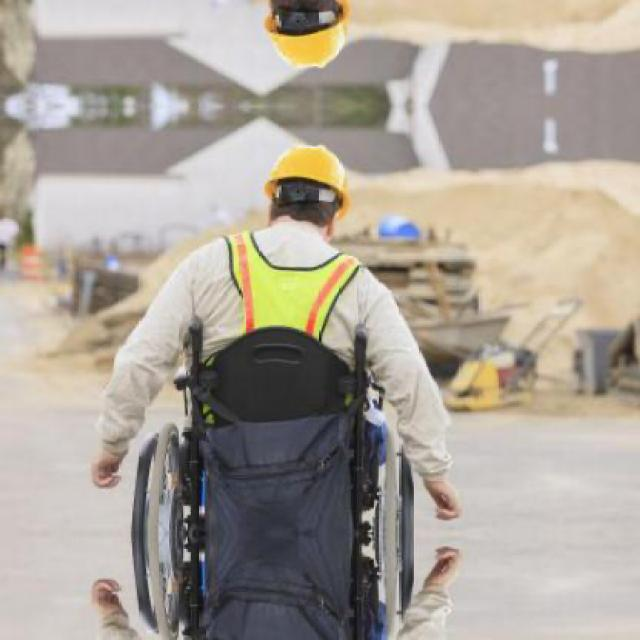2: (88, 137, 470, 532), (88, 535, 472, 639)
helmet: (249, 130, 363, 254), (248, 0, 363, 85)
